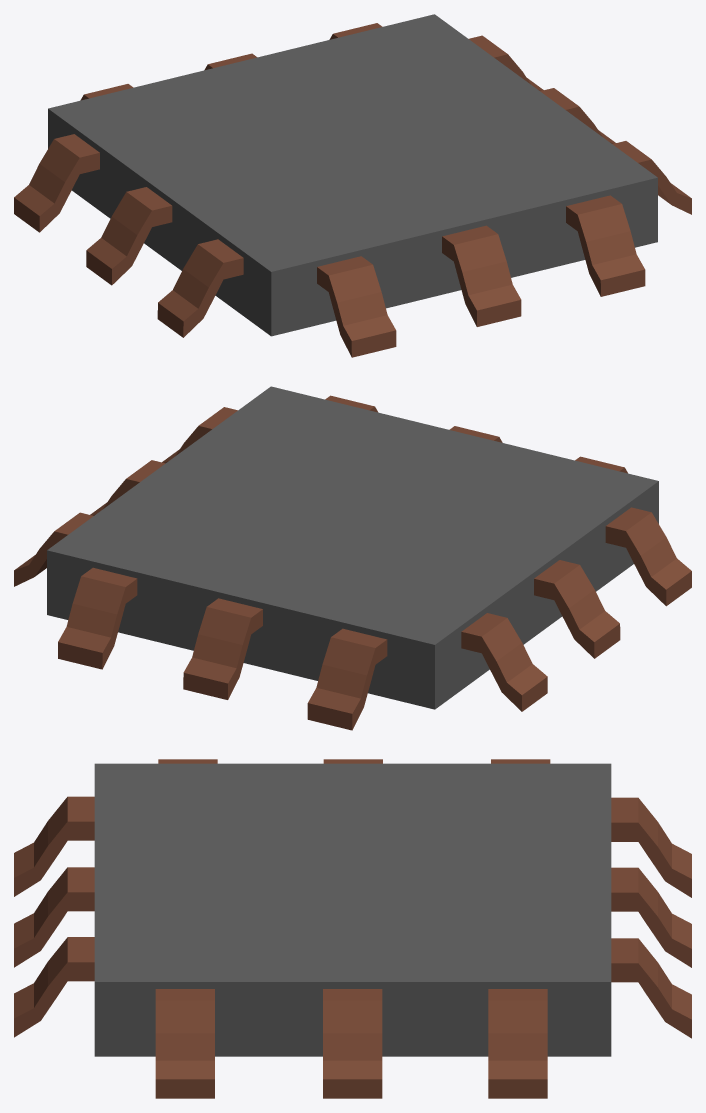
Rendered from Modulo de microchips 3.fbx.
3 renders of one model, top to bottom at view 1: azimuth 30°, elevation 25°; view 2: azimuth 150°, elevation 25°; view 3: azimuth 270°, elevation 25°, orthographic. The views are drawn at different scales.
Parts seen in each view (by area): view 1: Cube.000; view 2: Cube.000; view 3: Cube.000.
Boxes of the visible parts, x1,y1,x2,y2 form: Cube.000: (14,14,691,357); Cube.000: (14,386,691,730); Cube.000: (14,759,691,1098).
Bounding box in the file's own units: 370 × 49.76 × 370.
